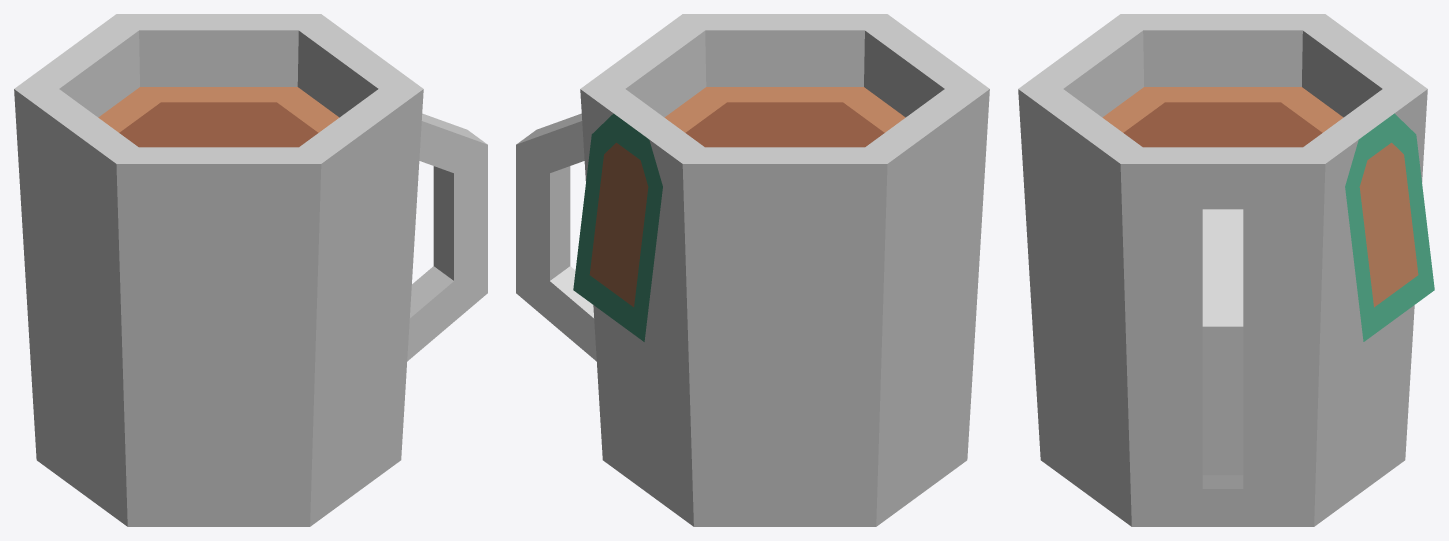
The model's file is cupThea.dae.
The picture shows the model from 3 angles, left to right: view 1: azimuth 30°, elevation 25°; view 2: azimuth 150°, elevation 25°; view 3: azimuth 270°, elevation 25°; orthographic projection.
Visible parts, largest first — view 1: cupThea; view 2: cupThea, label; view 3: cupThea, label.
Boxes of the visible parts, x1,y1,x2,y2 form: cupThea: (14, 14, 487, 526); cupThea: (516, 14, 989, 526); label: (573, 113, 662, 341); cupThea: (1018, 14, 1427, 526); label: (1345, 113, 1434, 341).
Size of the model in its own units: 0.2325 by 0.2 by 0.2034.
